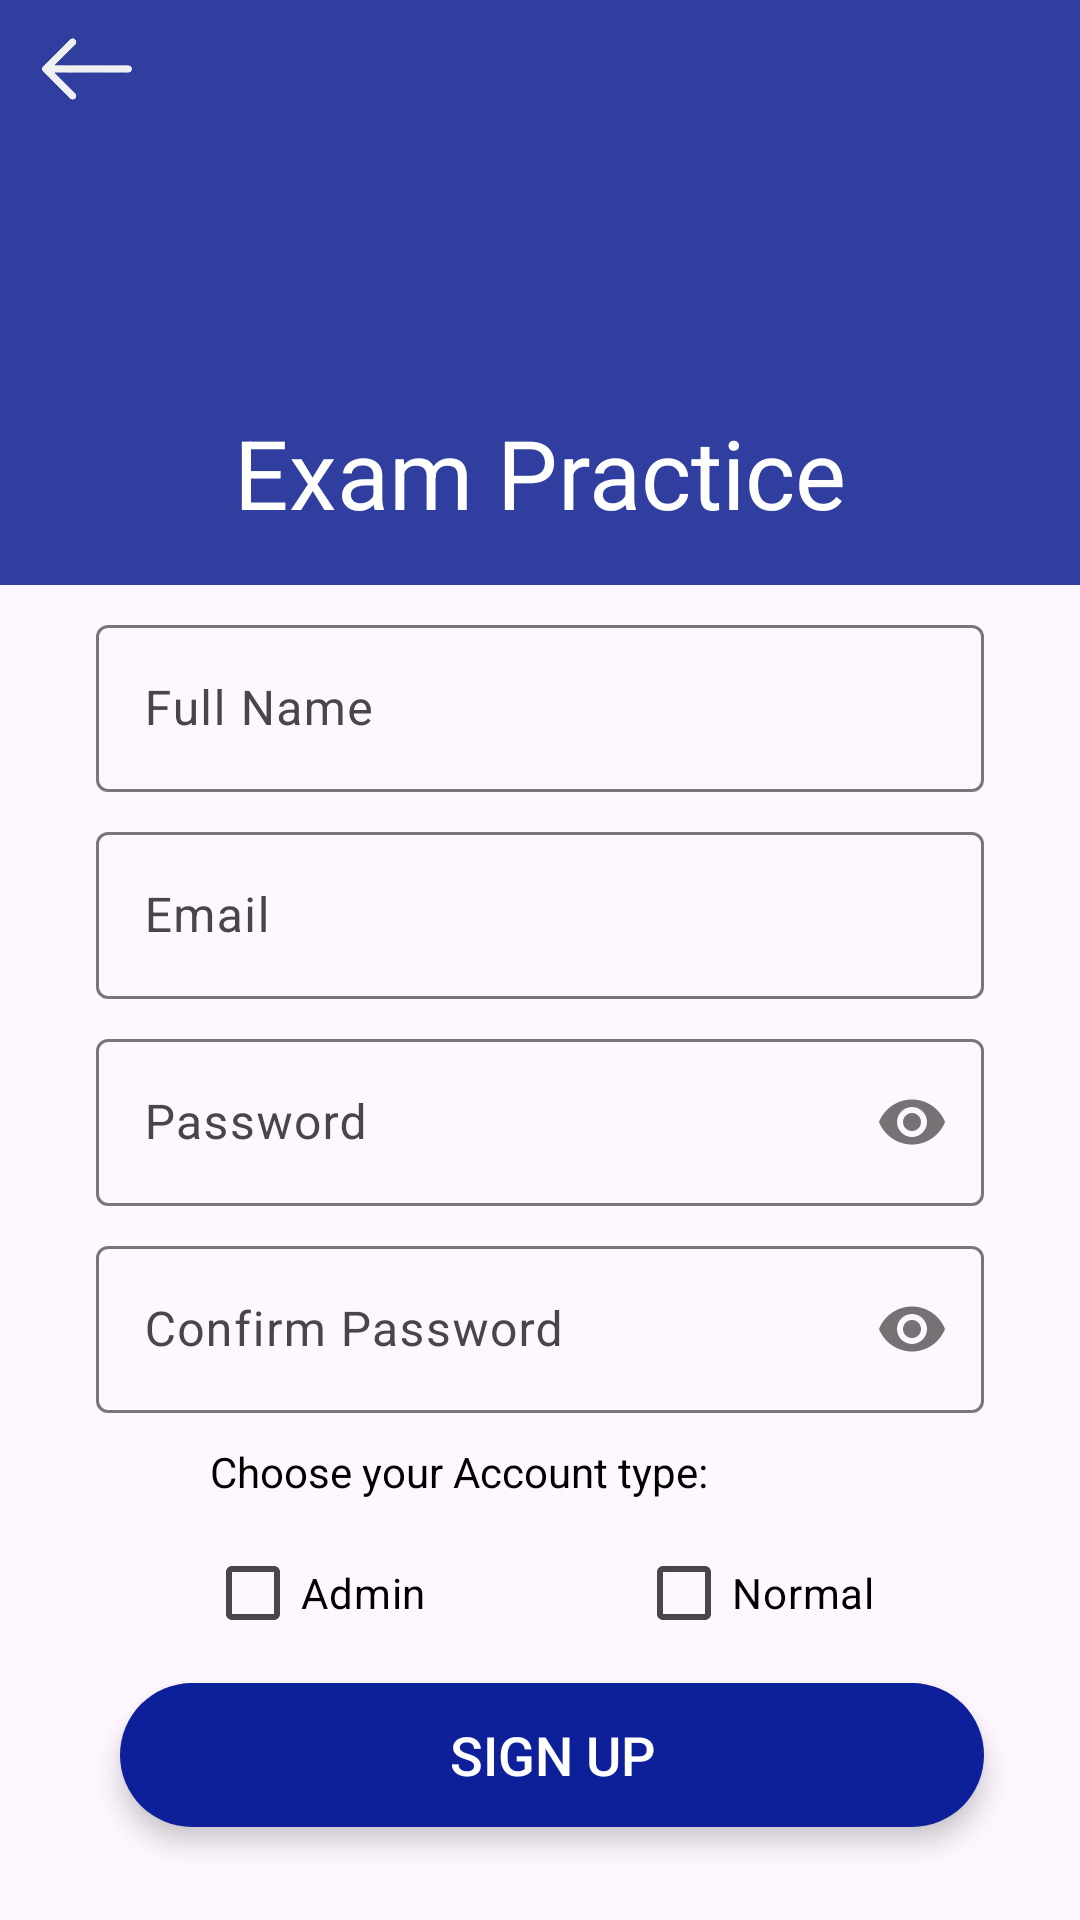

Named icons in this screenshot (1080 x 1920) and their centers, (x=x, y=y):
Back: (x=87, y=69)
